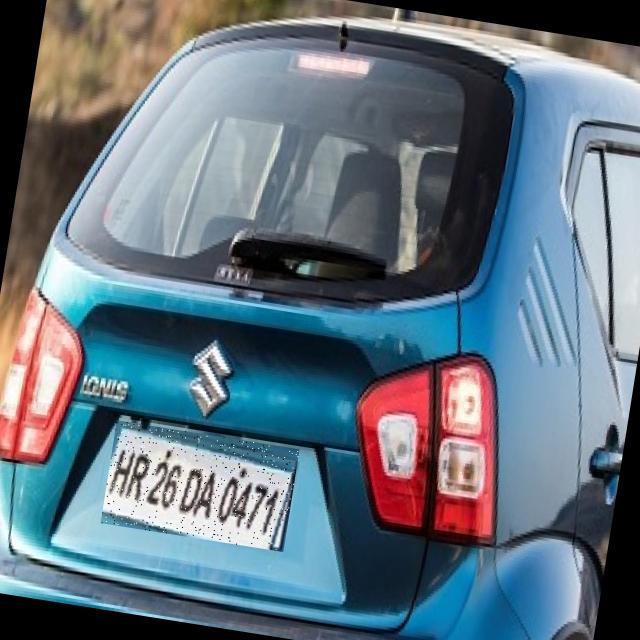Plate: (102, 422, 301, 554)
